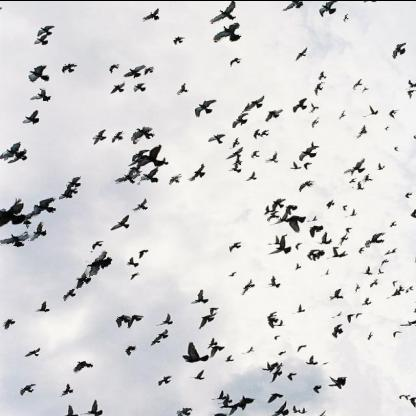bird: (81, 245, 124, 273), (17, 339, 53, 365), (23, 59, 52, 89), (0, 229, 29, 255), (129, 123, 163, 145), (212, 21, 245, 43), (191, 95, 221, 119), (68, 354, 103, 374), (27, 219, 59, 240), (32, 195, 60, 219), (66, 270, 103, 288), (208, 0, 235, 24), (112, 166, 142, 187), (33, 292, 59, 316), (345, 154, 372, 177), (1, 136, 26, 160), (106, 211, 135, 231), (22, 106, 46, 130), (129, 195, 156, 215), (29, 86, 55, 106), (366, 228, 392, 248), (189, 284, 211, 307), (186, 161, 210, 182), (138, 165, 166, 183), (315, 0, 339, 21), (60, 56, 84, 76), (278, 0, 307, 16), (0, 310, 22, 331), (189, 286, 214, 304), (169, 402, 200, 416), (18, 377, 38, 398), (110, 310, 132, 329), (120, 341, 139, 363), (122, 62, 148, 78), (89, 126, 109, 146), (245, 93, 268, 110), (230, 111, 254, 127), (154, 372, 176, 389), (295, 145, 321, 159), (238, 275, 257, 294), (142, 5, 162, 23), (225, 147, 247, 163), (57, 381, 78, 397), (391, 38, 406, 60), (292, 43, 310, 61), (327, 322, 346, 339), (266, 104, 286, 120), (266, 274, 287, 289), (328, 286, 346, 302), (317, 229, 335, 245), (294, 178, 316, 191), (226, 53, 248, 66), (353, 123, 372, 138), (242, 169, 262, 183), (175, 80, 193, 95), (107, 129, 126, 143), (62, 289, 84, 301), (67, 173, 87, 186), (228, 238, 244, 254), (352, 73, 367, 90), (362, 103, 380, 117), (272, 194, 288, 209), (207, 131, 227, 143), (292, 97, 307, 113), (266, 149, 283, 163), (358, 264, 376, 277), (264, 210, 282, 223), (290, 302, 305, 317), (367, 275, 383, 289), (166, 171, 182, 185), (249, 147, 264, 161), (132, 81, 148, 94), (111, 80, 127, 93), (107, 61, 123, 74), (243, 344, 257, 358), (142, 65, 158, 77), (360, 172, 377, 183), (363, 328, 377, 341), (337, 232, 351, 245), (341, 10, 354, 24), (343, 207, 359, 218), (360, 294, 373, 307), (387, 106, 400, 119), (308, 101, 322, 113), (313, 82, 326, 94), (172, 34, 186, 45), (226, 162, 241, 172), (230, 137, 242, 149), (336, 110, 351, 119), (351, 282, 363, 293), (354, 181, 366, 192), (318, 70, 330, 81), (310, 115, 322, 126), (404, 78, 416, 89), (378, 257, 392, 266), (261, 126, 272, 136), (360, 82, 371, 92), (252, 125, 261, 137), (406, 89, 416, 99), (394, 142, 402, 151), (377, 162, 387, 169), (357, 245, 365, 253), (384, 125, 392, 131)
